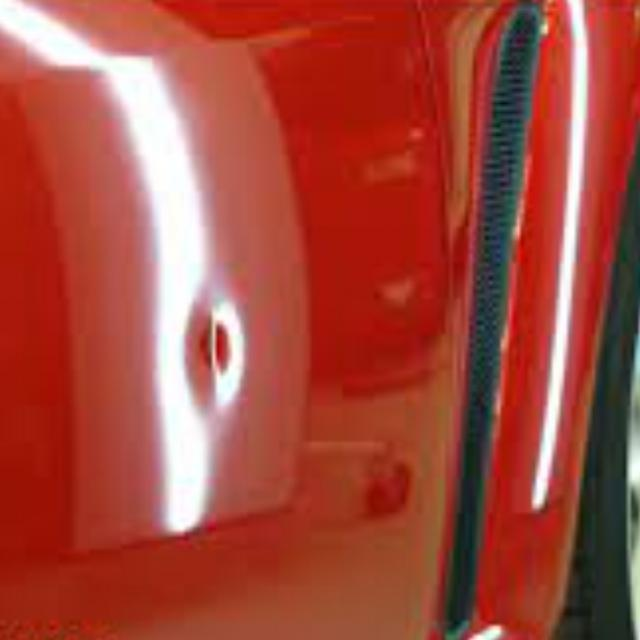dents: (169, 297, 291, 429)
